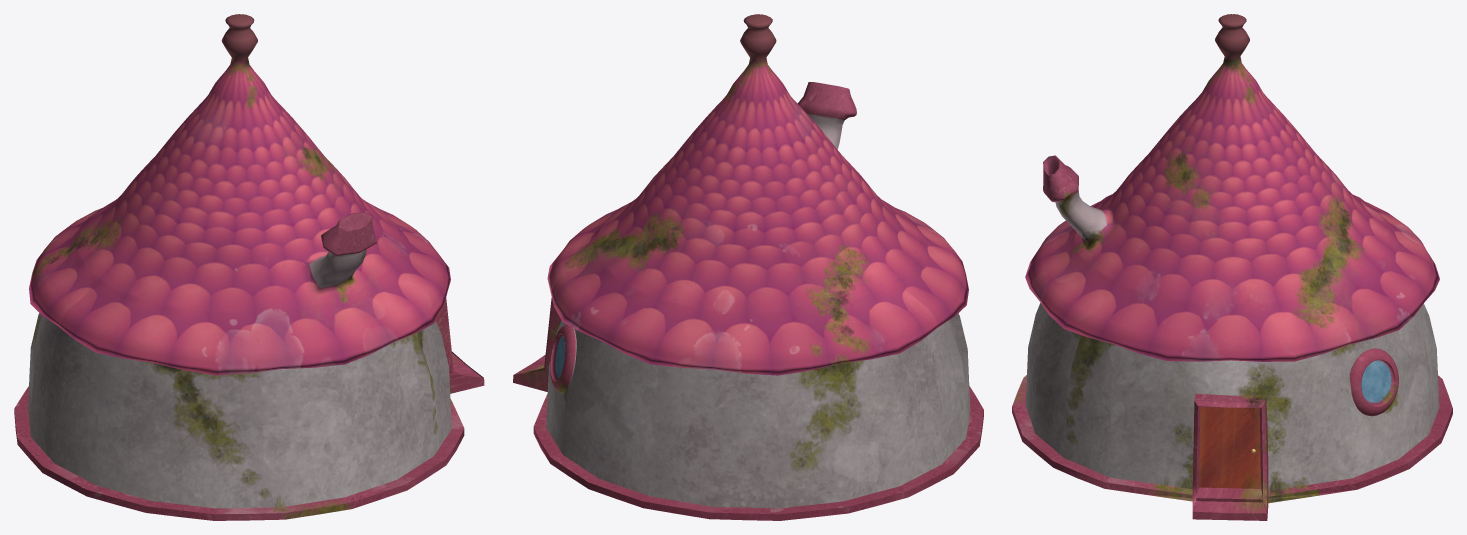
The model's file is Fairy_house.glb.
The picture shows the model from 3 angles, left to right: view 1: azimuth 30°, elevation 25°; view 2: azimuth 150°, elevation 25°; view 3: azimuth 270°, elevation 25°; orthographic projection. The views are drawn at different scales.
Parts seen in each view (by area): view 1: pSphere2; view 2: pSphere2; view 3: pSphere2.
Boxes of the visible parts, <box> form: pSphere2: <box>14,14,484,520</box>; pSphere2: <box>513,14,983,520</box>; pSphere2: <box>1012,14,1452,520</box>.
Bounding box in the file's own units: 7.03 × 6.47 × 6.51.
Materials: 1 (1 with a texture image).
